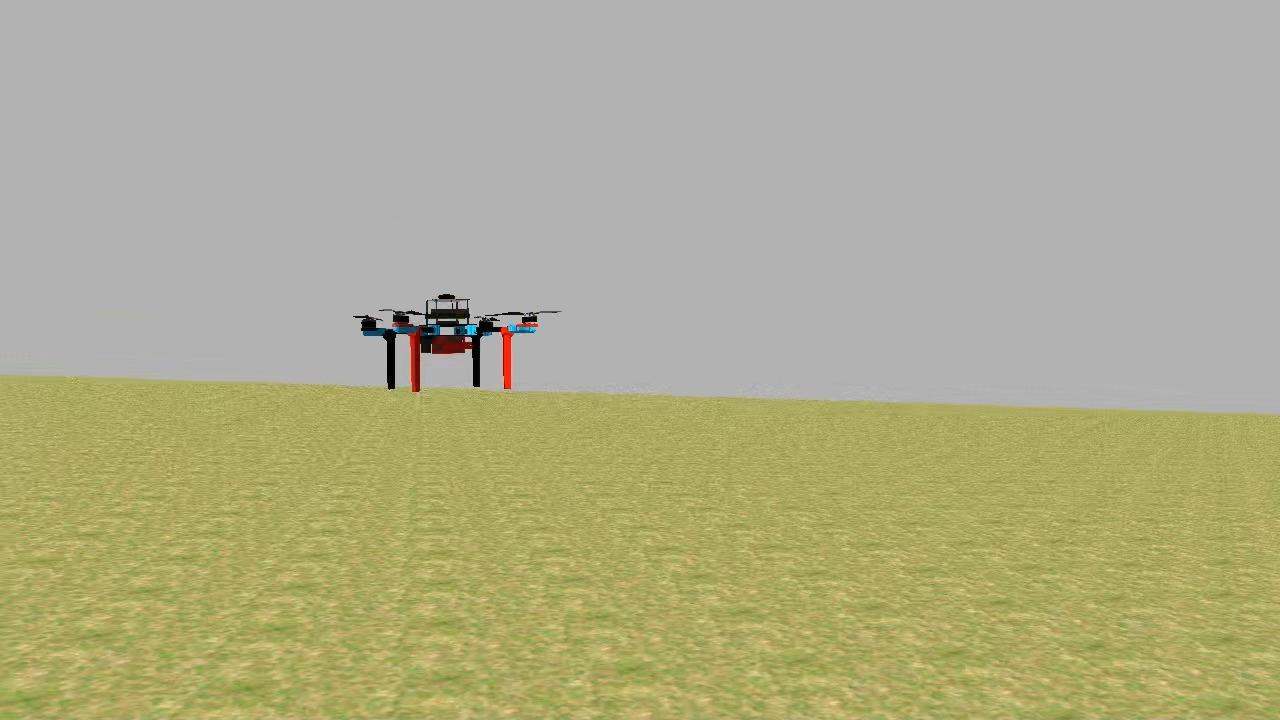UAV: (354, 286, 544, 394)
